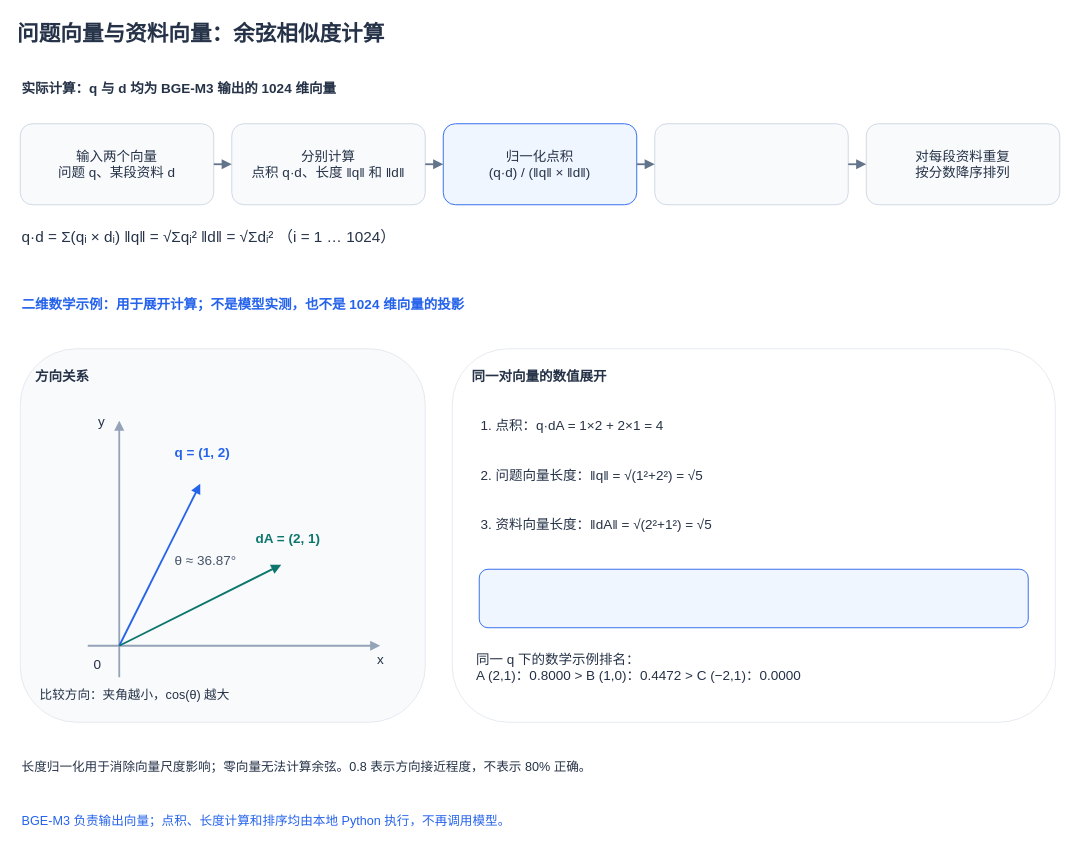
Some shapes in this 1084 by 854 pixel diagram are drawn without their labels. Here are the shapes that lost their labels. From the top down, the centre of each, then its label:
At [751,164]: "得到一个分数 即 cos(θ)，范围 [−1, 1]".
At [753,598]: "4. cos(q, dA) = 4 / (√5 × √5) = 0.8".
